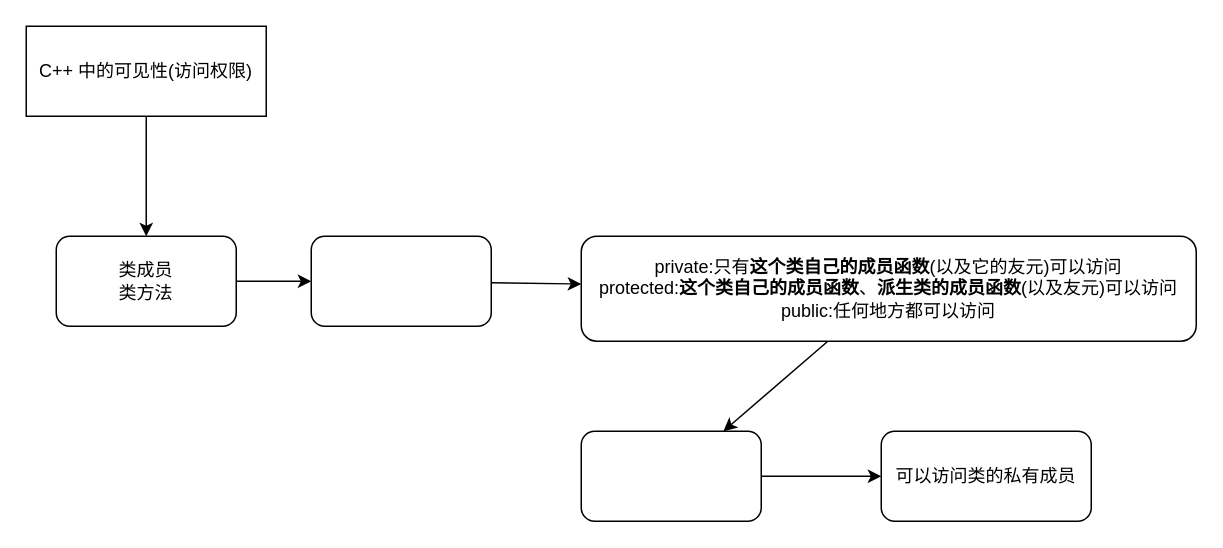
The diagram is 1223 pixels wide and 548 high, and some of its shapes have lost their labels. The centre of each missing label's shape, as x and y in pixels:
"修饰符" goes at (400,280).
"友元" goes at (670,475).
